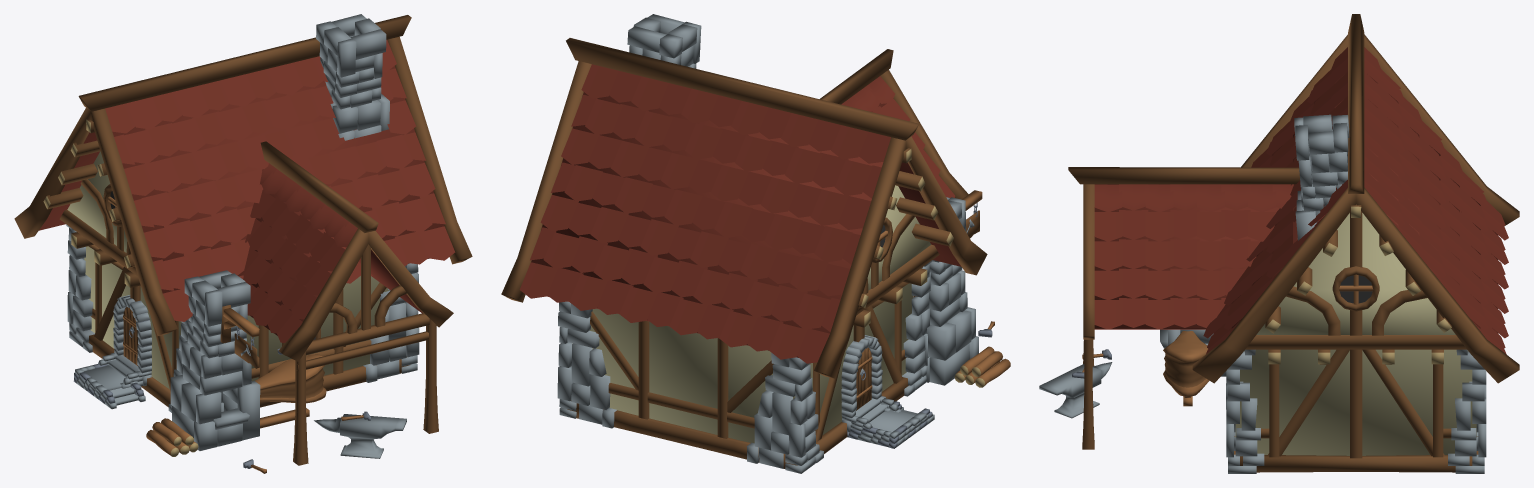
The model's file is blacksmith.003_lev2.glb.
3 views of the same model, side by side, from view 1: azimuth 30°, elevation 25°; view 2: azimuth 150°, elevation 25°; view 3: azimuth 270°, elevation 25° (orthographic). The views are drawn at different scales.
Visible parts, largest first — view 1: blacksmith.003_lev2; view 2: blacksmith.003_lev2; view 3: blacksmith.003_lev2.
Part boxes in pixels (box(x1,y1,x2,y2)): blacksmith.003_lev2: box(14, 14, 472, 473); blacksmith.003_lev2: box(501, 14, 1010, 473); blacksmith.003_lev2: box(1039, 14, 1519, 473).
Bounding box in the file's own units: 6.57 × 6.01 × 7.78.
